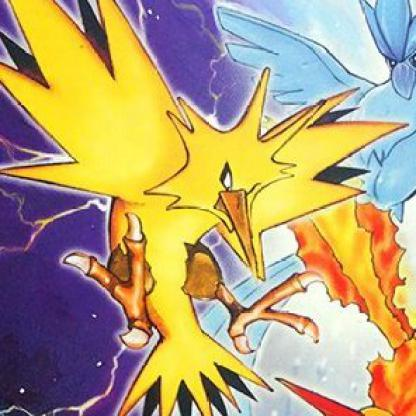Zapdos: (1, 1, 410, 416)
